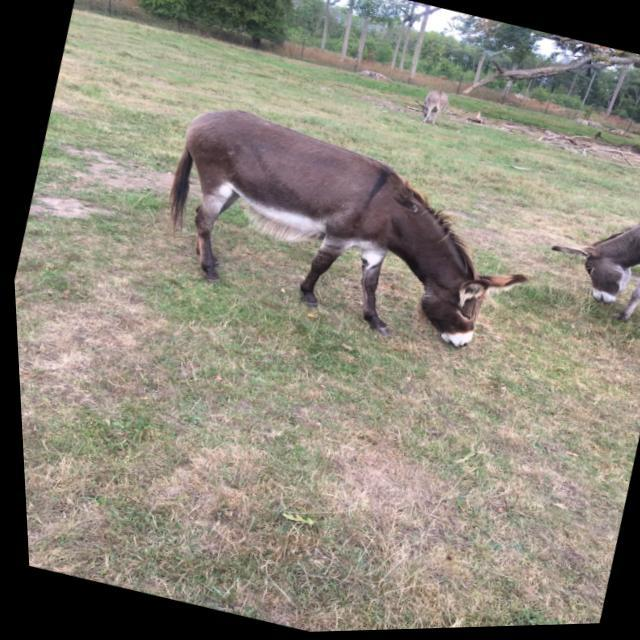Donkey: (138, 90, 558, 380), (527, 178, 640, 340), (414, 88, 452, 134)
